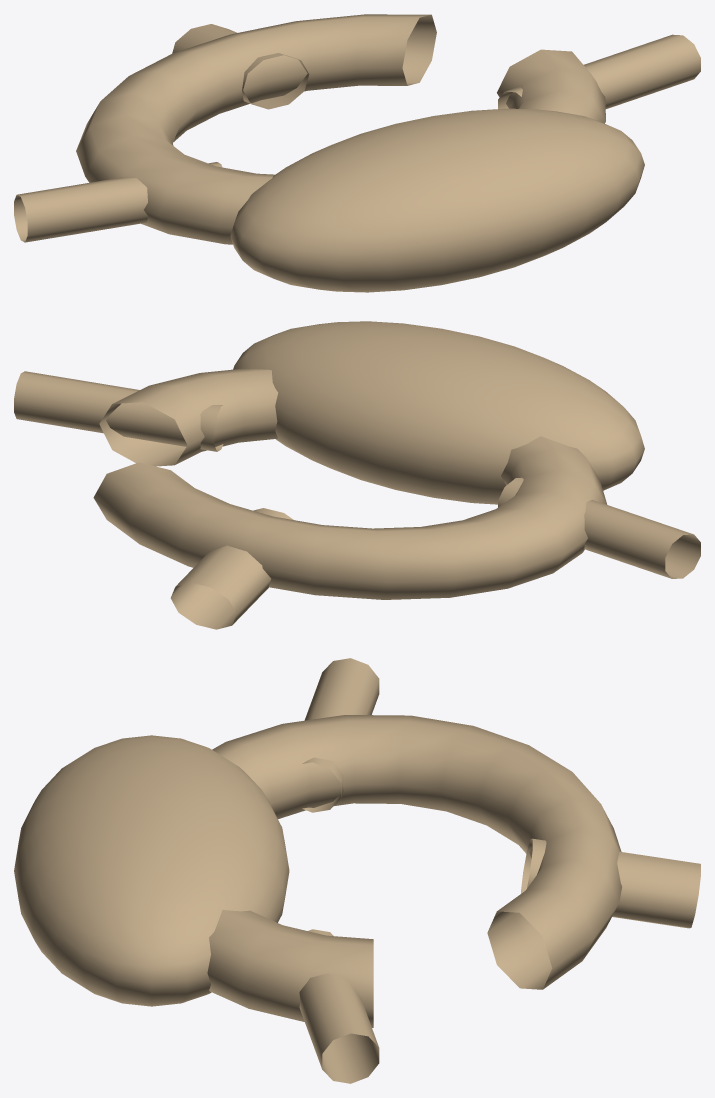
3 views of the same model, one above another, from view 1: azimuth 30°, elevation 25°; view 2: azimuth 150°, elevation 25°; view 3: azimuth 270°, elevation 25° (orthographic). The views are drawn at different scales.
Parts seen in each view (by area): view 1: l1:centrum, l1:neural-arch, l1:transverse--1, l1:transverse-1, l1:spinous-process; view 2: l1:neural-arch, l1:centrum, l1:transverse-1, l1:transverse--1, l1:spinous-process; view 3: l1:neural-arch, l1:centrum, l1:transverse-1, l1:spinous-process, l1:transverse--1.
Part boxes in pixels (x1,y1,x2,y2): l1:centrum: (230, 108, 644, 292); l1:neural-arch: (76, 14, 605, 244); l1:transverse--1: (14, 162, 222, 242); l1:transverse-1: (498, 34, 700, 108); l1:spinous-process: (172, 24, 309, 109); l1:neural-arch: (93, 368, 607, 599); l1:centrum: (233, 321, 644, 504); l1:transverse-1: (14, 371, 223, 451); l1:transverse--1: (498, 477, 700, 578); l1:spinous-process: (170, 508, 293, 629); l1:neural-arch: (207, 715, 621, 1027); l1:centrum: (14, 735, 289, 1006); l1:transverse-1: (299, 929, 379, 1083); l1:spinous-process: (521, 838, 700, 928); l1:transverse--1: (302, 658, 379, 812).
Size of the model in its own units: 0.3082 by 0.057 by 0.2345.
